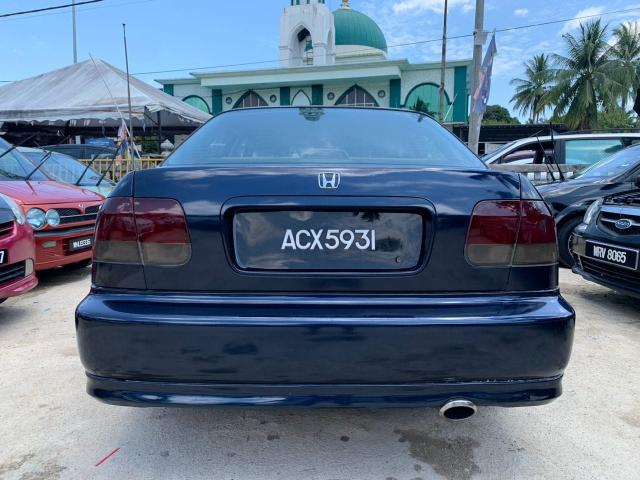License_Plate: (236, 218, 418, 271), (584, 239, 635, 271)
car: (67, 97, 578, 414)
